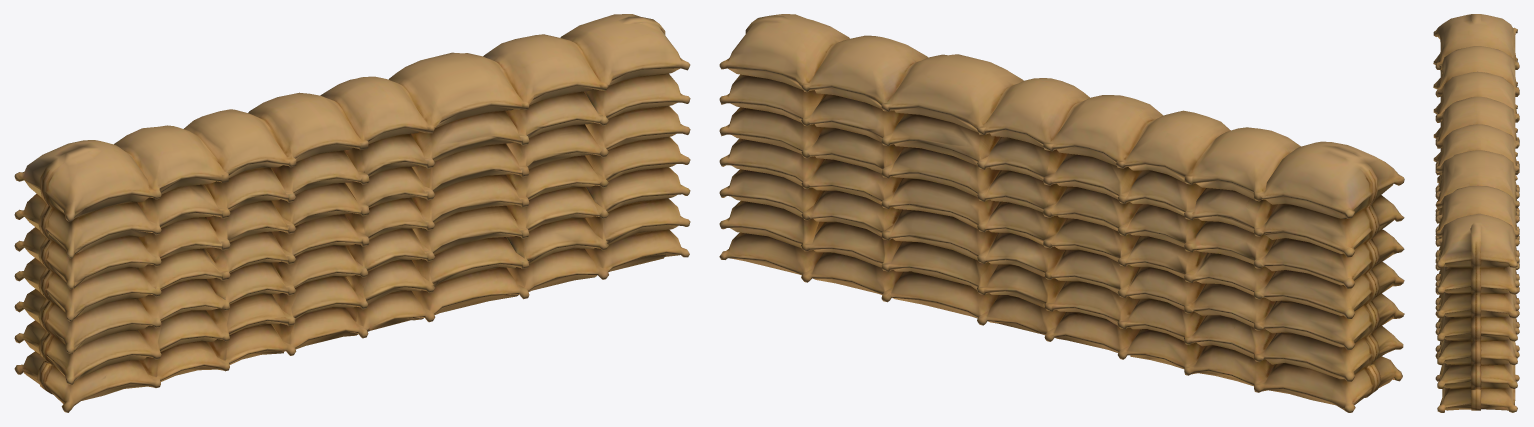
The model's file is a_sandbag_wall_a230dd4c_v4.glb.
The picture shows the model from 3 angles, left to right: view 1: azimuth 30°, elevation 25°; view 2: azimuth 150°, elevation 25°; view 3: azimuth 270°, elevation 25°; orthographic projection. The views are drawn at different scales.
Visible parts, largest first — view 1: material; view 2: material; view 3: material.
Part boxes in pixels (left/top/right/bottom): material: left=14, top=14, right=690, bottom=412; material: left=719, top=14, right=1404, bottom=412; material: left=1433, top=14, right=1519, bottom=412.
Size of the model in its own units: 1.9 by 0.6854 by 0.2968.
1 material, 1 textured.
